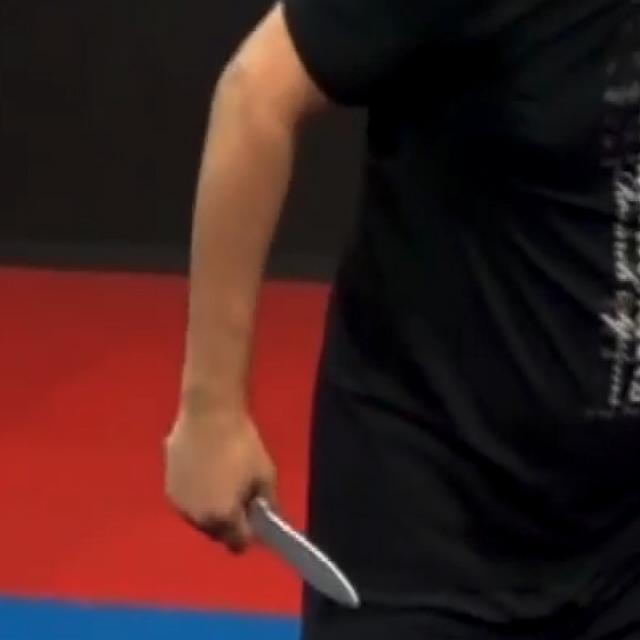suspicion: (151, 6, 365, 616), (256, 499, 362, 611)
